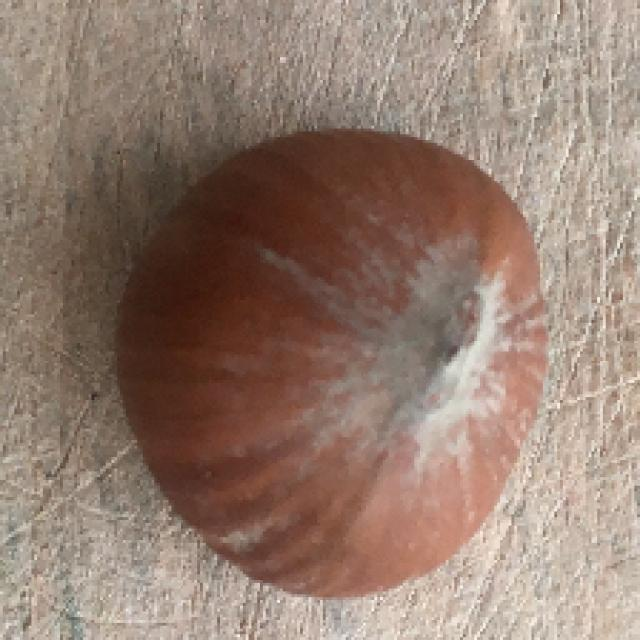damagedHazelnut: (116, 129, 554, 589)
